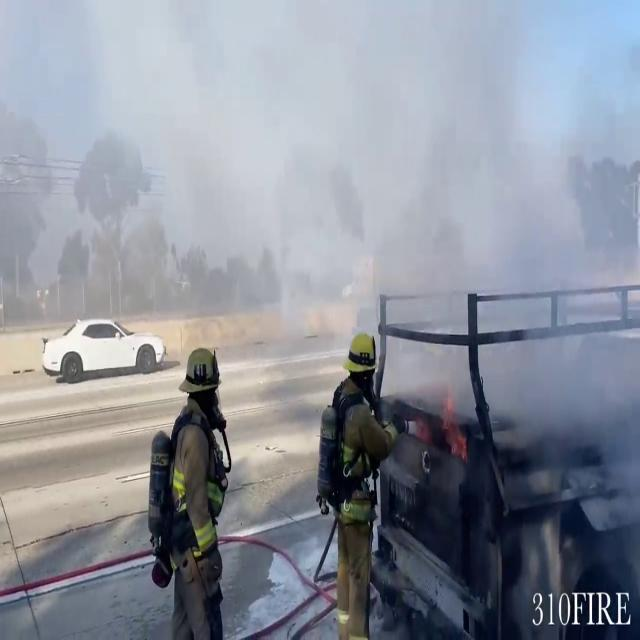Smoke: (3, 0, 640, 366)
